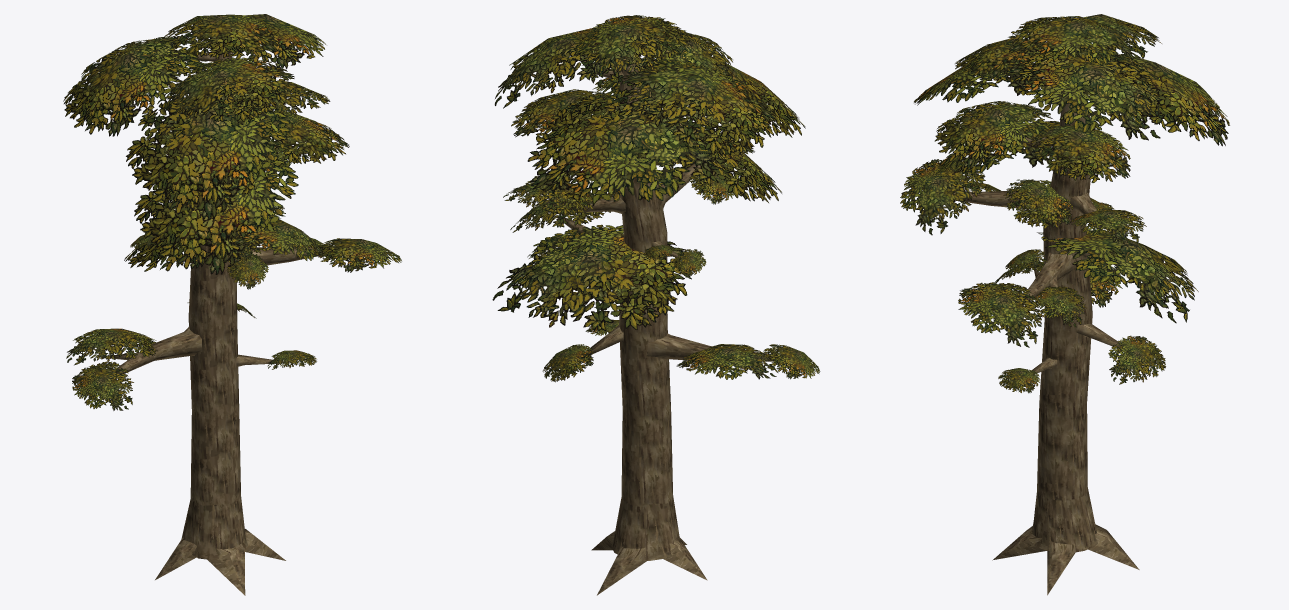
Rendered from BigTree2.fbx.
3 views of the same model, side by side, from view 1: azimuth 30°, elevation 25°; view 2: azimuth 150°, elevation 25°; view 3: azimuth 270°, elevation 25° (orthographic).
Parts seen in each view (by area): view 1: MassiveLeaves2, MassiveTree2; view 2: MassiveLeaves2, MassiveTree2; view 3: MassiveLeaves2, MassiveTree2.
Boxes of the visible parts, x1,y1,x2,y2 form: MassiveLeaves2: [63, 14, 401, 410]; MassiveTree2: [103, 49, 324, 595]; MassiveLeaves2: [492, 15, 820, 382]; MassiveTree2: [544, 57, 773, 595]; MassiveLeaves2: [900, 14, 1229, 393]; MassiveTree2: [953, 53, 1139, 595].
Size of the model in its own units: 15543 by 24079 by 16399.
